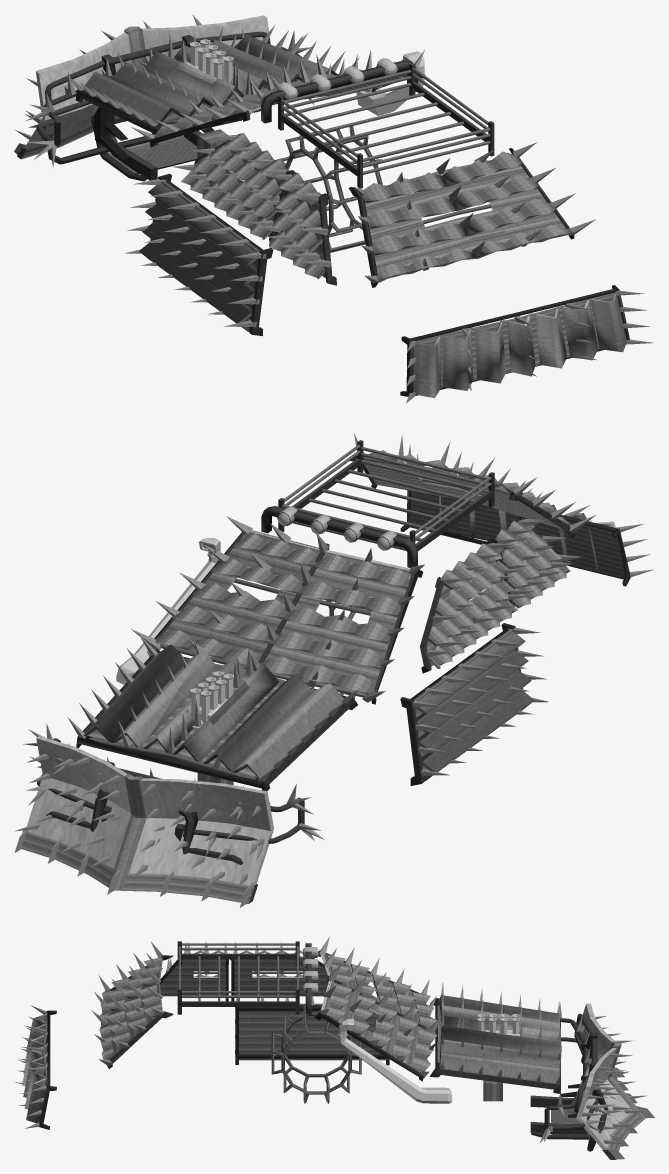
The model's file is SmallCar02Armor.fbx.
The picture shows the model from 3 angles, top to bottom: view 1: azimuth 30°, elevation 25°; view 2: azimuth 150°, elevation 25°; view 3: azimuth 270°, elevation 25°; orthographic projection. The views are drawn at different scales.
Visible parts, largest first — view 1: trunkreinforcedrear, windowreinforcedrear, plow, roofrack, windowfrontreinforcedleft, doorfrontreinforcedleft, hoodreinforcedfront, windowheavyrear, hoodreinforcedfrontscoop, windowheavyspikedrear, pushbar_medium, doorfrontheavyspikedleft (+19 smaller); view 2: plow, windowreinforcedfront, hoodreinforcedfront, windowheavyfront, plow_spiked, windowfrontreinforcedleft, doorfrontreinforcedleft, hoodreinforcedfrontscoop, roofrack, windowheavyspikedfront, trunkheavyspikedrear, hoodheavyspikedfront (+20 smaller); view 3: hoodreinforcedfront, windowreinforcedfront, doorfrontheavyleft, windowfrontheavyleft, plow, roofrack, hoodreinforcedfrontscoop, windowreinforcedrear, chaintires, windowheavyfront, windowheavyspikedfront, trunkreinforcedrear (+17 smaller).
Boxes of the visible parts, <box> form: trunkreinforcedrear: <box>409,288,626,398</box>; windowreinforcedrear: <box>362,151,573,282</box>; plow: <box>14,15,270,159</box>; roofrack: <box>278,63,494,188</box>; windowfrontreinforcedleft: <box>181,133,325,279</box>; doorfrontreinforcedleft: <box>139,180,262,331</box>; hoodreinforcedfront: <box>84,35,338,132</box>; windowheavyrear: <box>349,148,574,287</box>; hoodreinforcedfrontscoop: <box>83,35,328,132</box>; windowheavyspikedrear: <box>353,142,595,283</box>; pushbar_medium: <box>46,115,242,181</box>; doorfrontheavyspikedleft: <box>125,179,266,327</box>; plow: <box>14,736,273,907</box>; windowreinforcedfront: <box>155,533,409,694</box>; hoodreinforcedfront: <box>77,644,350,788</box>; windowheavyfront: <box>154,530,417,704</box>; plow_spiked: <box>15,739,269,886</box>; windowfrontreinforcedleft: <box>427,519,570,668</box>; doorfrontreinforcedleft: <box>411,629,534,781</box>; hoodreinforcedfrontscoop: <box>77,646,350,788</box>; roofrack: <box>278,440,494,550</box>; windowheavyspikedfront: <box>131,516,424,704</box>; trunkheavyspikedrear: <box>407,488,653,577</box>; hoodheavyspikedfront: <box>67,634,359,781</box>; hoodreinforcedfront: <box>435,995,560,1089</box>; windowreinforcedfront: <box>327,955,437,1073</box>; doorfrontheavyleft: <box>235,1007,389,1065</box>; windowfrontheavyleft: <box>160,958,328,1001</box>; plow: <box>568,1003,654,1159</box>; roofrack: <box>177,941,299,1014</box>; hoodreinforcedfrontscoop: <box>441,996,560,1085</box>; windowreinforcedrear: <box>99,957,162,1059</box>; chaintires: <box>271,1004,361,1103</box>; windowheavyfront: <box>314,950,426,1080</box>; windowheavyspikedfront: <box>318,936,441,1081</box>; trunkreinforcedrear: <box>22,1011,50,1123</box>.
Size of the model in its own units: 273 by 181 by 653.
